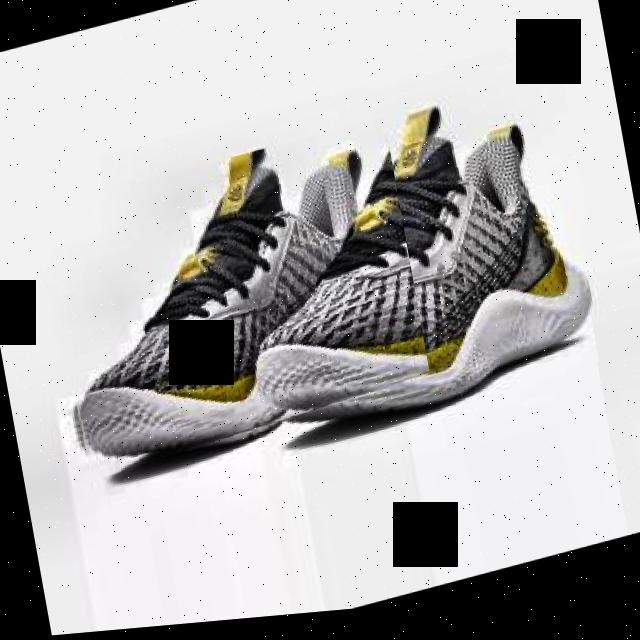shoe: (210, 79, 602, 459), (35, 120, 432, 487)
